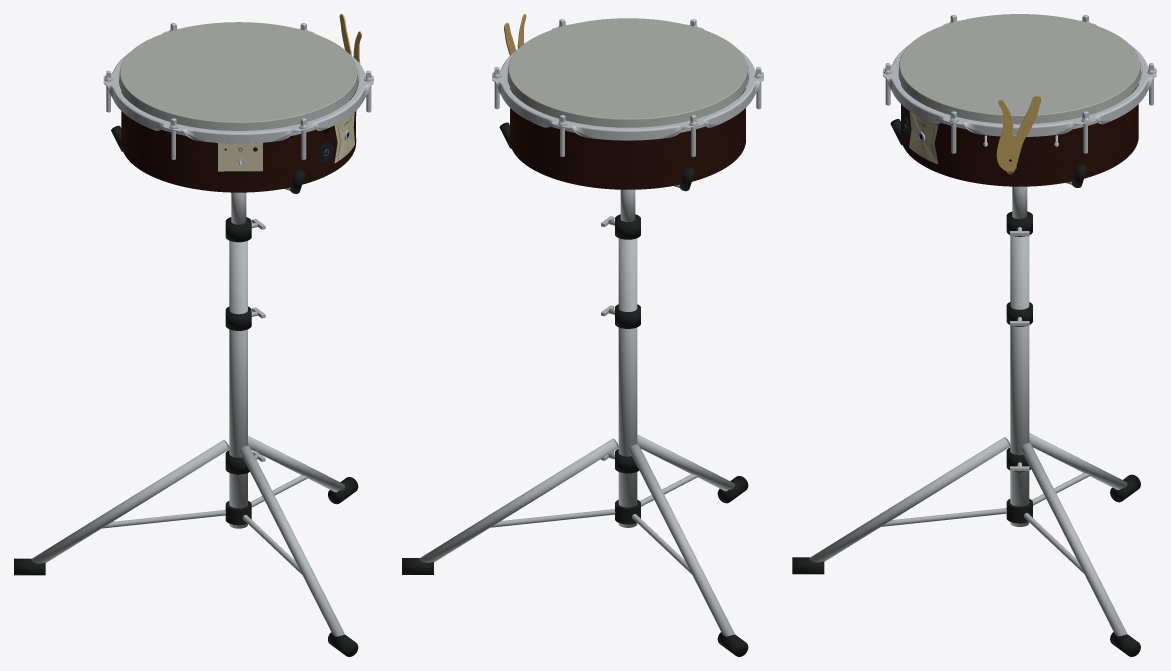
The model's file is messier57-v3.glb.
The picture shows the model from 3 angles, left to right: view 1: azimuth 30°, elevation 25°; view 2: azimuth 150°, elevation 25°; view 3: azimuth 270°, elevation 25°; orthographic projection.
Visible parts, largest first — view 1: CAD_54_Drumhead, CAD_69_New Shell, Stand_Lower_Tube, Tripod_Leg_1, Tripod_Leg_2, Final_Sensing_Plaque, Tripod_Leg_0, Tripod_Brace_1, CAD_40_Rim, CAD_42_Rim, Final_PLUG_IN_Label, Stand_Adjustment_Collar; view 2: CAD_54_Drumhead, CAD_69_New Shell, Stand_Lower_Tube, Tripod_Leg_0, Tripod_Leg_1, Tripod_Leg_2, Tripod_Brace_0, CAD_48_Rim, CAD_50_Rim, Stand_Adjustment_Collar; view 3: CAD_54_Drumhead, CAD_69_New Shell, Stand_Lower_Tube, Tripod_Leg_2, Tripod_Leg_0, Final_Sculpted_Brass_Fork, Tripod_Leg_1, Final_PLUG_IN_Label, Tripod_Brace_2, CAD_32_Rim.
Part boxes in pixels (x1=…): CAD_54_Drumhead: x1=119, y1=22, x2=358, y2=130; CAD_69_New Shell: x1=121, y1=91, x2=355, y2=192; Stand_Lower_Tube: x1=229, y1=240, x2=247, y2=528; Tripod_Leg_1: x1=31, y1=440, x2=229, y2=563; Tripod_Leg_2: x1=239, y1=445, x2=344, y2=636; Final_Sensing_Plaque: x1=218, y1=142, x2=262, y2=171; Tripod_Leg_0: x1=248, y1=435, x2=345, y2=492; Tripod_Brace_1: x1=102, y1=510, x2=225, y2=528; CAD_40_Rim: x1=238, y1=124, x2=306, y2=143; CAD_42_Rim: x1=171, y1=124, x2=238, y2=143; Final_PLUG_IN_Label: x1=334, y1=112, x2=354, y2=162; Stand_Adjustment_Collar: x1=225, y1=217, x2=251, y2=242; CAD_54_Drumhead: x1=507, y1=18, x2=748, y2=127; CAD_69_New Shell: x1=510, y1=88, x2=745, y2=189; Stand_Lower_Tube: x1=618, y1=238, x2=637, y2=527; Tripod_Leg_0: x1=419, y1=438, x2=618, y2=562; Tripod_Leg_1: x1=629, y1=444, x2=734, y2=636; Tripod_Leg_2: x1=637, y1=434, x2=734, y2=491; Tripod_Brace_0: x1=491, y1=509, x2=615, y2=527; CAD_48_Rim: x1=628, y1=121, x2=695, y2=140; CAD_50_Rim: x1=560, y1=121, x2=627, y2=140; Stand_Adjustment_Collar: x1=615, y1=214, x2=640, y2=239; CAD_54_Drumhead: x1=898, y1=14, x2=1140, y2=124; CAD_69_New Shell: x1=901, y1=84, x2=1138, y2=186; Stand_Lower_Tube: x1=1010, y1=236, x2=1029, y2=526; Tripod_Leg_2: x1=810, y1=437, x2=1010, y2=562; Tripod_Leg_0: x1=1020, y1=443, x2=1127, y2=636; Final_Sculpted_Brass_Fork: x1=996, y1=95, x2=1041, y2=171; Tripod_Leg_1: x1=1029, y1=433, x2=1127, y2=489; Final_PLUG_IN_Label: x1=909, y1=111, x2=938, y2=164; Tripod_Brace_2: x1=881, y1=508, x2=1006, y2=526; CAD_32_Rim: x1=1019, y1=117, x2=1088, y2=136.
Size of the model in its own units: 0.4264 by 0.6234 by 0.386.
Materials: 24 (1 with a texture image).
